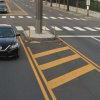Crosswalk: (27, 12, 94, 37)
